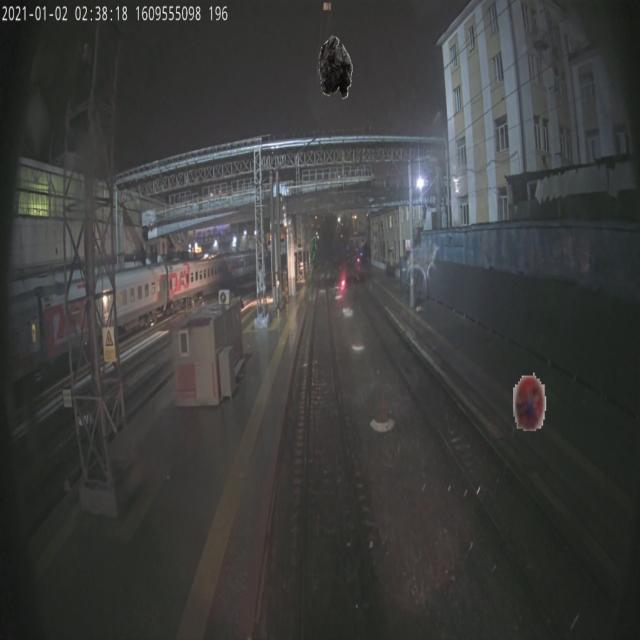floating object: (513, 367, 546, 431), (308, 236, 316, 300)
plastic bag: (318, 35, 353, 99)
